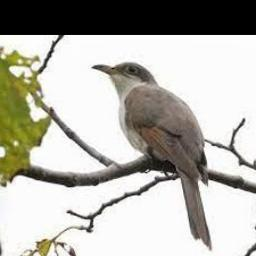Cuckoo: (91, 62, 212, 251)
